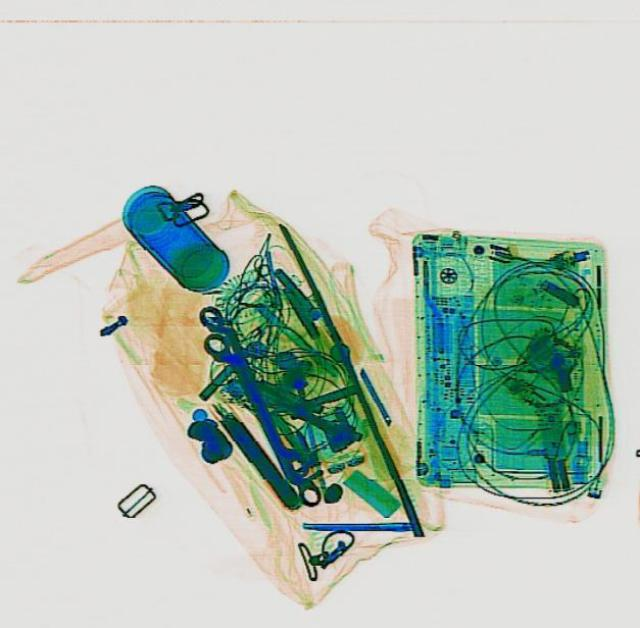Wrench: (190, 301, 326, 509)
